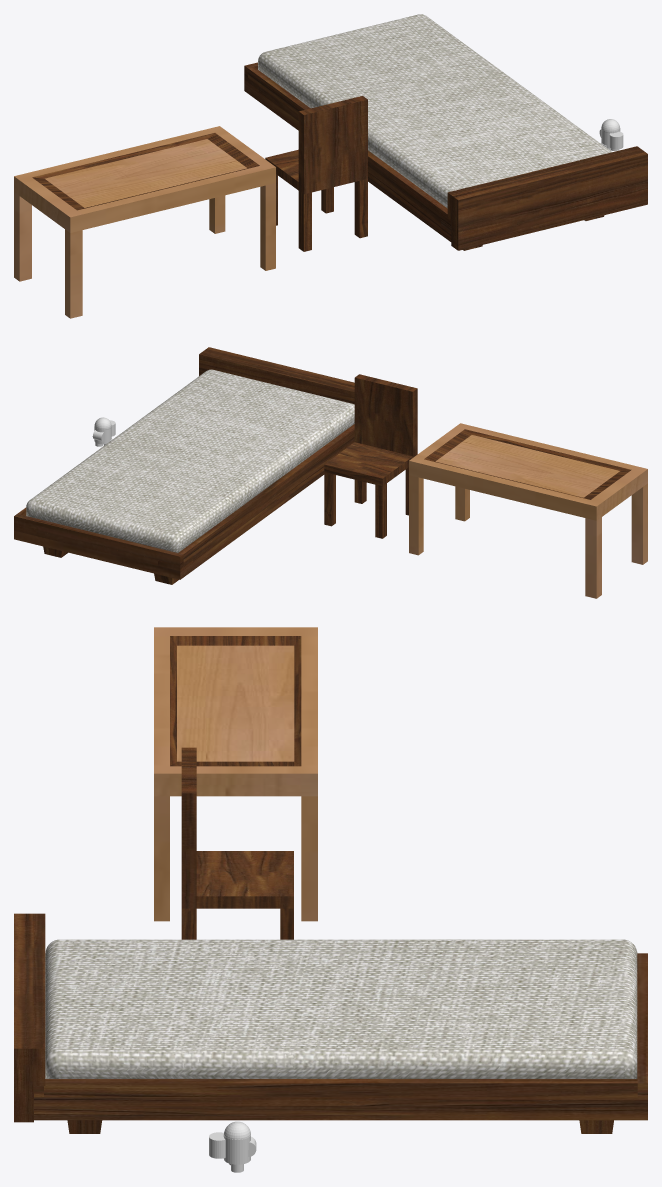
The model's file is Furniture.fbx.
The picture shows the model from 3 angles, top to bottom: view 1: azimuth 30°, elevation 25°; view 2: azimuth 150°, elevation 25°; view 3: azimuth 270°, elevation 25°; orthographic projection. The views are drawn at different scales.
Parts seen in each view (by area): view 1: BedFrame, Table, Chair; view 2: BedFrame, Table, Chair; view 3: BedFrame, Table, Chair.
Boxes of the visible parts, <box> form: BedFrame: <box>244,14,647,250</box>; Table: <box>14,126,275,318</box>; Chair: <box>265,96,367,251</box>; BedFrame: <box>14,347,354,584</box>; Table: <box>409,423,647,598</box>; Chair: <box>324,374,417,538</box>; BedFrame: <box>14,913,647,1133</box>; Table: <box>154,627,317,921</box>; Chair: <box>181,747,293,939</box>.
Size of the model in its own units: 7111 by 1616 by 4639.
